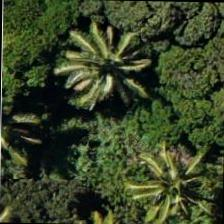Kelapa_Sawit: (69, 20, 161, 112), (135, 143, 224, 223)
